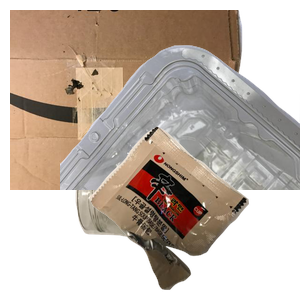cardboard: (10, 10, 245, 190)
glass: (73, 153, 284, 300)
plastic: (60, 43, 300, 223)
trash: (86, 124, 300, 300)
